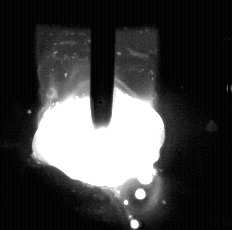arame: (90, 0, 115, 128)
poca: (31, 0, 161, 230)
